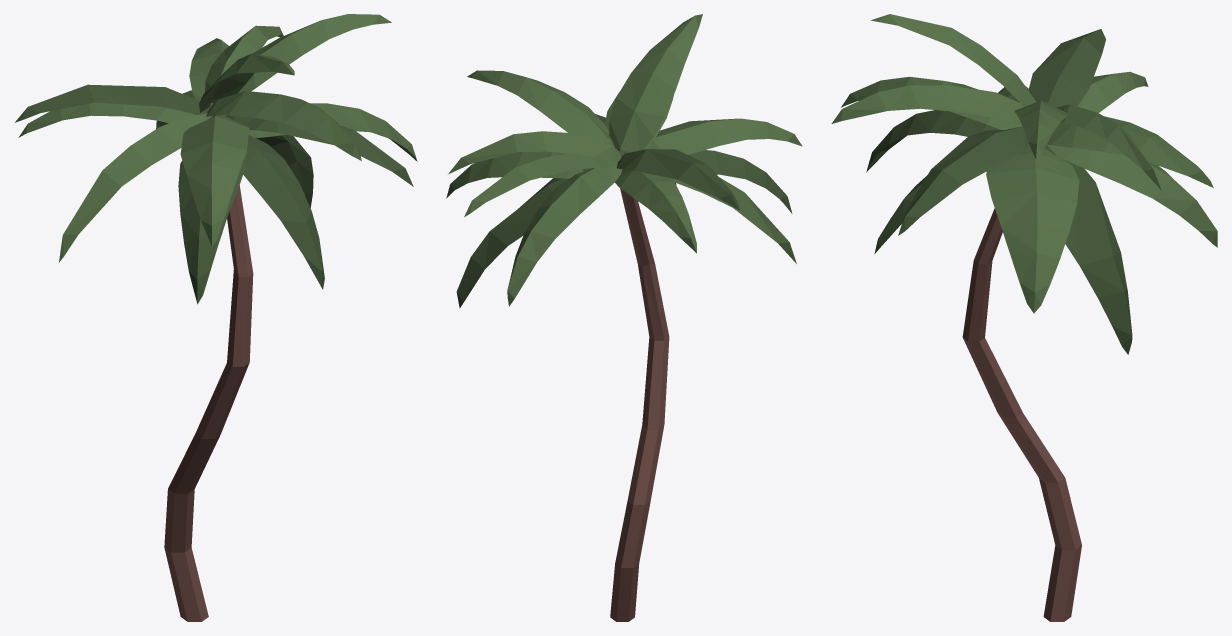
File: PalmTree_1.lod1.glb
3 renders of one model, left to right at view 1: azimuth 30°, elevation 25°; view 2: azimuth 150°, elevation 25°; view 3: azimuth 270°, elevation 25°, orthographic. The views are drawn at different scales.
Visible parts, largest first — view 1: PalmTree_1; view 2: PalmTree_1; view 3: PalmTree_1.
Boxes of the visible parts, left/top/right/bottom form: PalmTree_1: left=14, top=14, right=417, bottom=621; PalmTree_1: left=446, top=14, right=802, bottom=621; PalmTree_1: left=831, top=14, right=1217, bottom=621.
Bounding box in the file's own units: 2.87 × 4.48 × 2.6.
